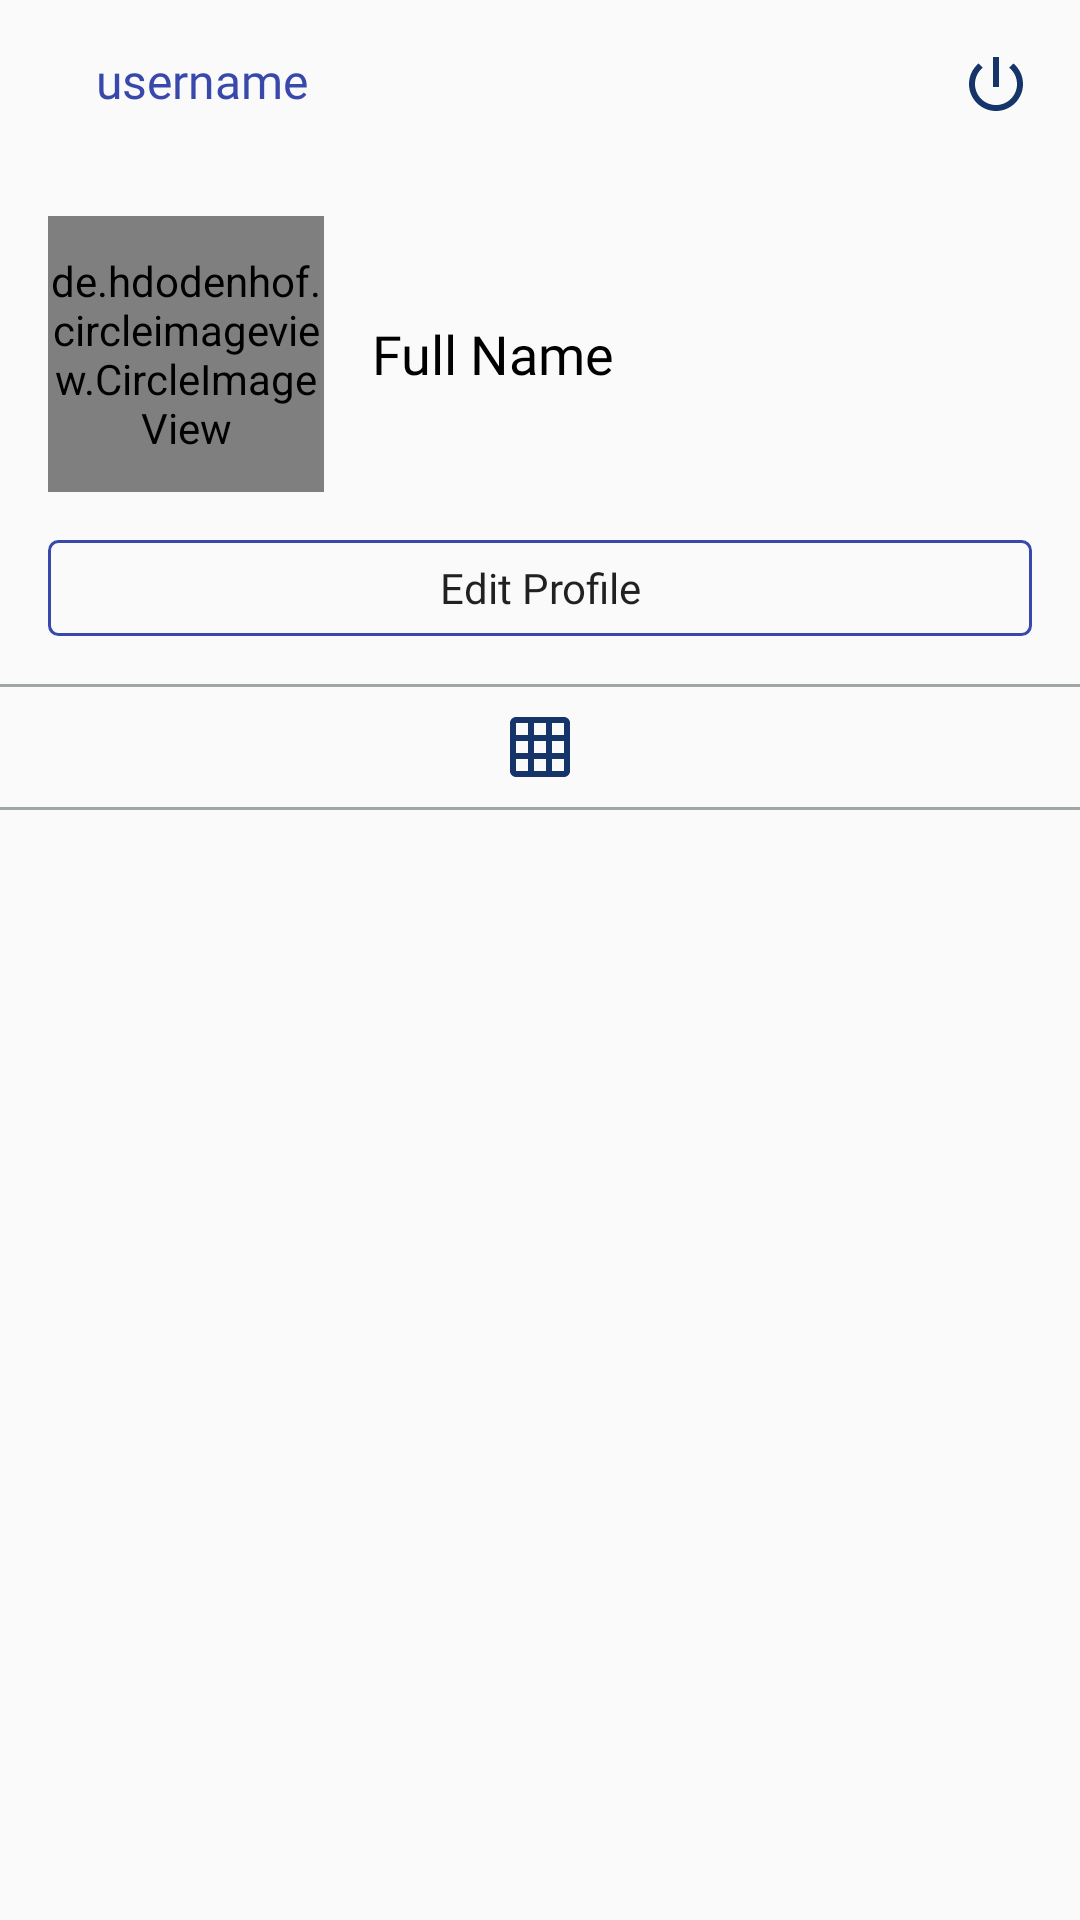

Screen size 1080w x 1920h. Icon name, then its box in pixels as (x1, y1, x2, y2):
grid: (510, 717, 570, 777)
